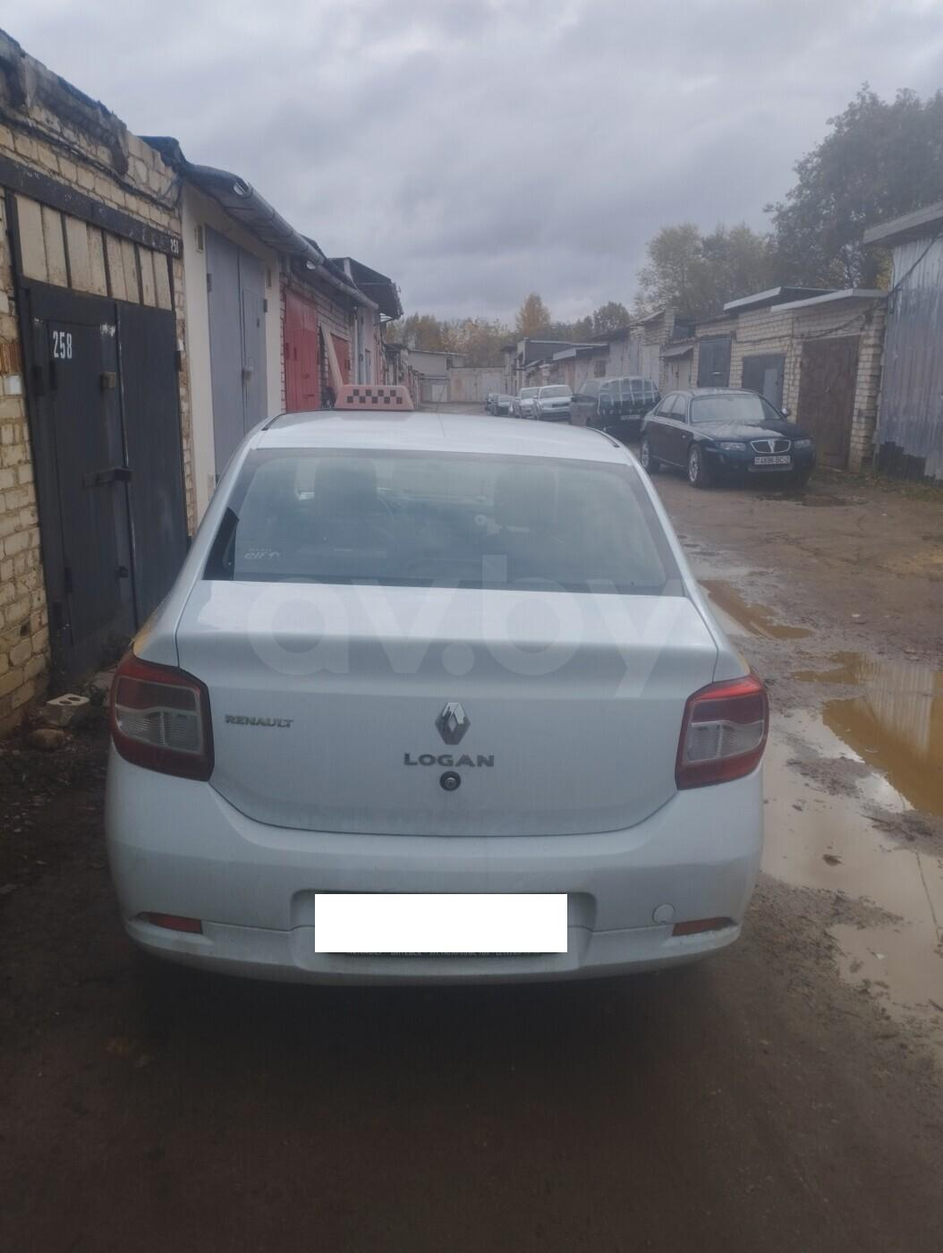Logan_2013-2018: (91, 397, 769, 997)
